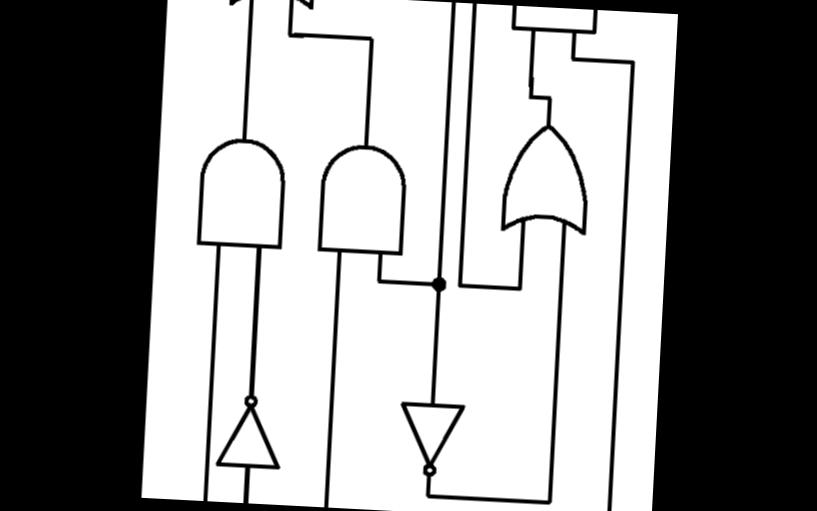and: (309, 137, 411, 260), (190, 130, 290, 254), (503, 4, 600, 38)
not: (208, 387, 288, 475), (390, 396, 471, 482)
or: (494, 116, 594, 241)
